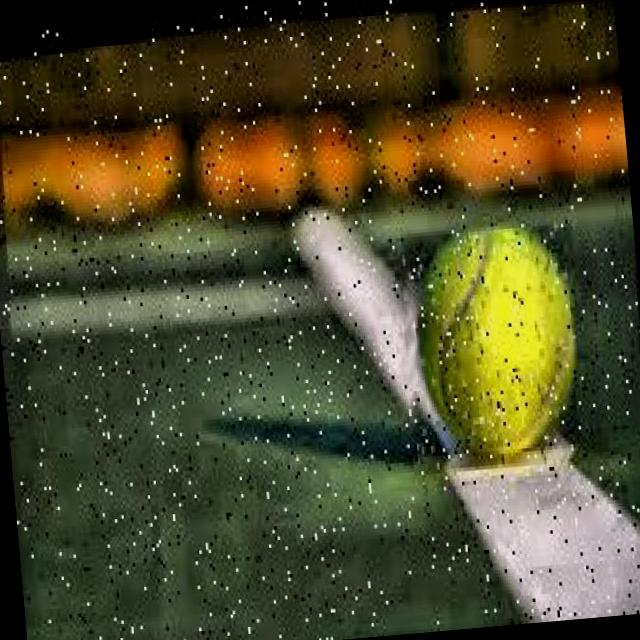Tennis Ball: (390, 210, 591, 484)
